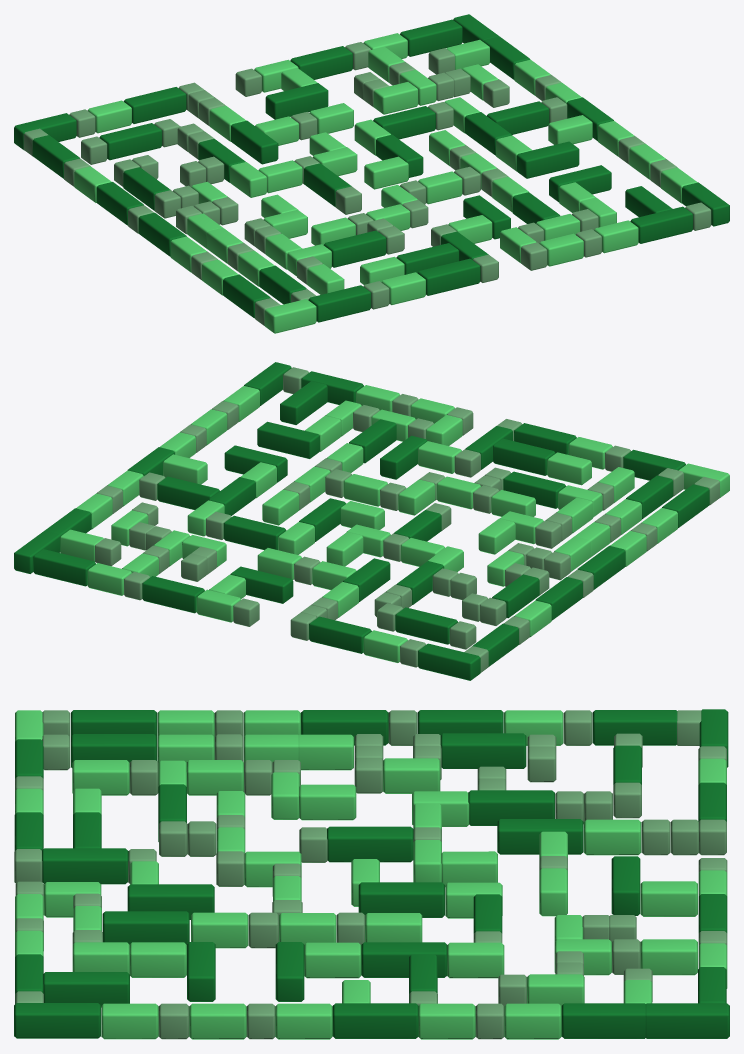
Rendered from SM_Maze_02b.fbx.
3 renders of one model, top to bottom at view 1: azimuth 30°, elevation 25°; view 2: azimuth 150°, elevation 25°; view 3: azimuth 270°, elevation 25°, orthographic. The views are drawn at different scales.
Visible parts, largest first — view 1: polySurface248, polySurface305, polySurface189; view 2: polySurface248, polySurface305, polySurface189; view 3: polySurface248, polySurface305, polySurface189.
Boxes of the visible parts, <box> form: polySurface248: <box>74,33,697,333</box>; polySurface305: <box>14,14,729,322</box>; polySurface189: <box>23,42,711,325</box>; polySurface248: <box>60,385,729,662</box>; polySurface305: <box>14,362,709,680</box>; polySurface189: <box>95,367,719,672</box>; polySurface248: <box>15,710,727,1039</box>; polySurface305: <box>14,709,729,1038</box>; polySurface189: <box>14,710,727,1039</box>.
Size of the model in its own units: 2523 by 102 by 2496.
